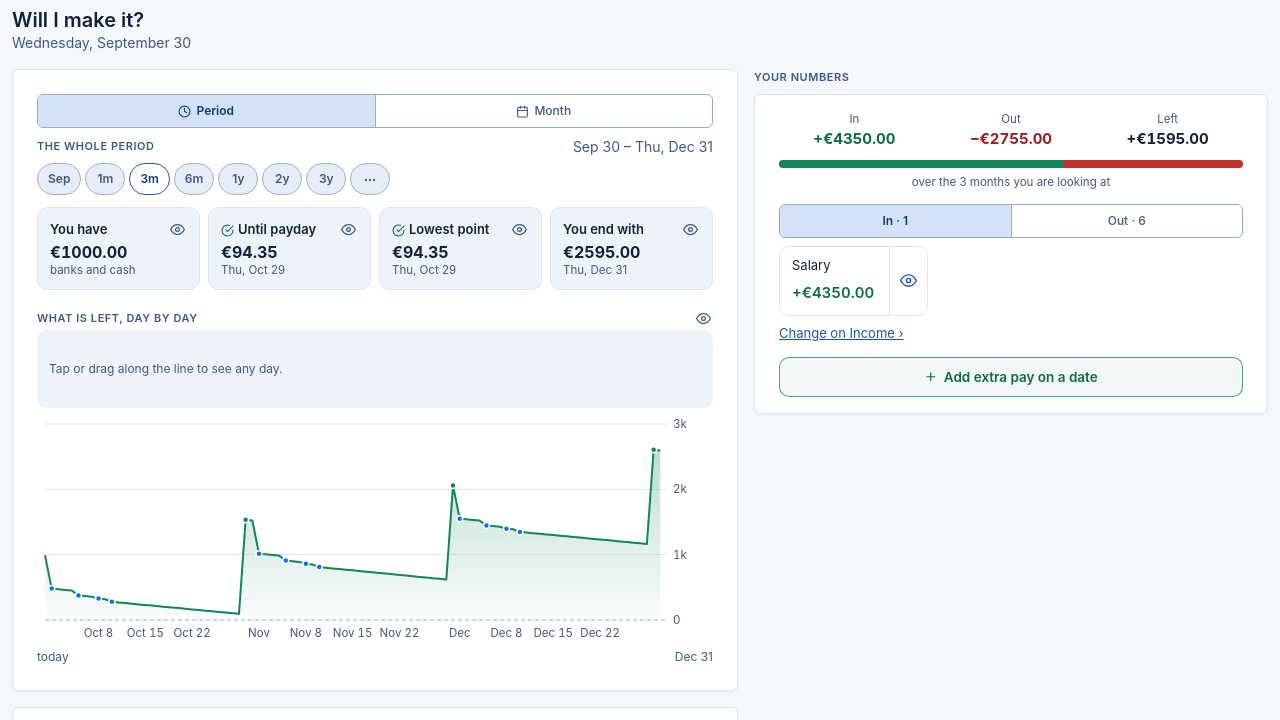
Test: the four tiles › say the four answers, each the same figure as the working behind it
Expected: the button named "You have: €1000.00, details" is shown, 161,214 -> 193,246
Expected: the button named "Until payday: €94.35, details" is shown, 332,214 -> 364,246
Click the button named "You end with: " at (690, 230), box 674,214 -> 706,246
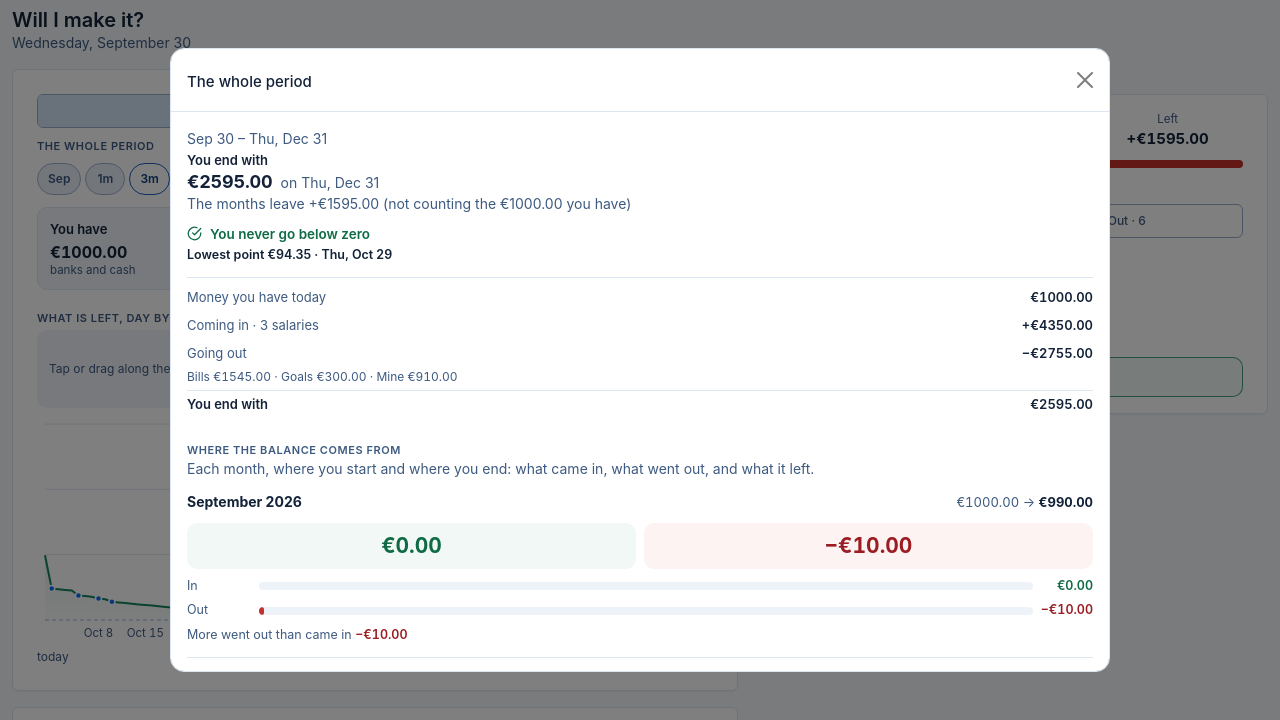
Now the text "€2595.00" next to "on Thu, Dec 31" is shown, box 187,170 -> 272,192
Now the text "−€2755.00" is shown, box 1022,344 -> 1093,363
